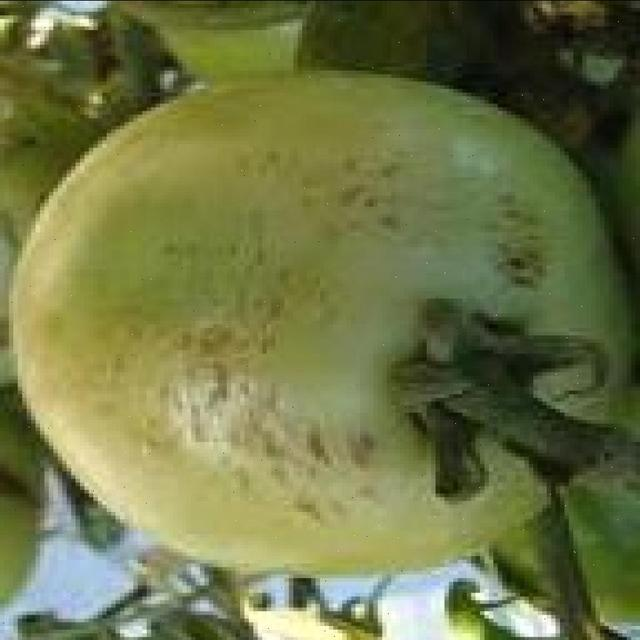Cracking Fruit: (38, 50, 347, 260)
